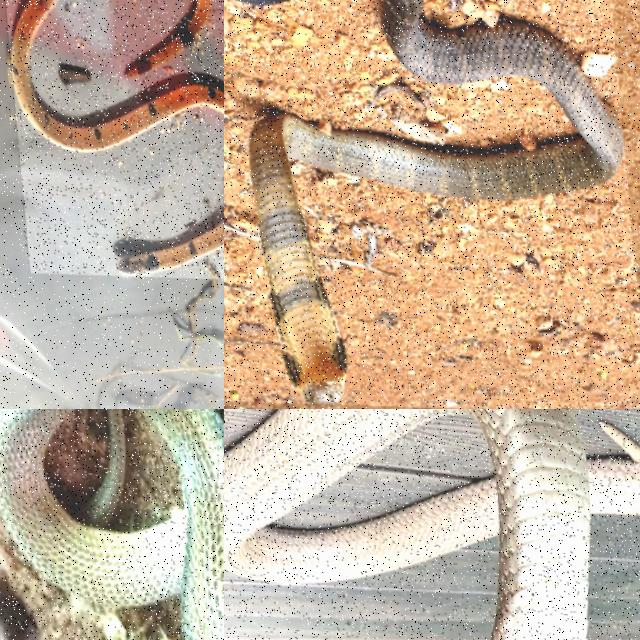Calliophis maculiceps: (7, 0, 223, 151)
Naja kaouthia: (224, 409, 639, 639)
Naja siamensis: (0, 409, 223, 639)
Ophiophagus hannah: (248, 0, 622, 403)
snake: (248, 0, 622, 403), (224, 409, 639, 639), (0, 409, 223, 639), (7, 0, 223, 151)
